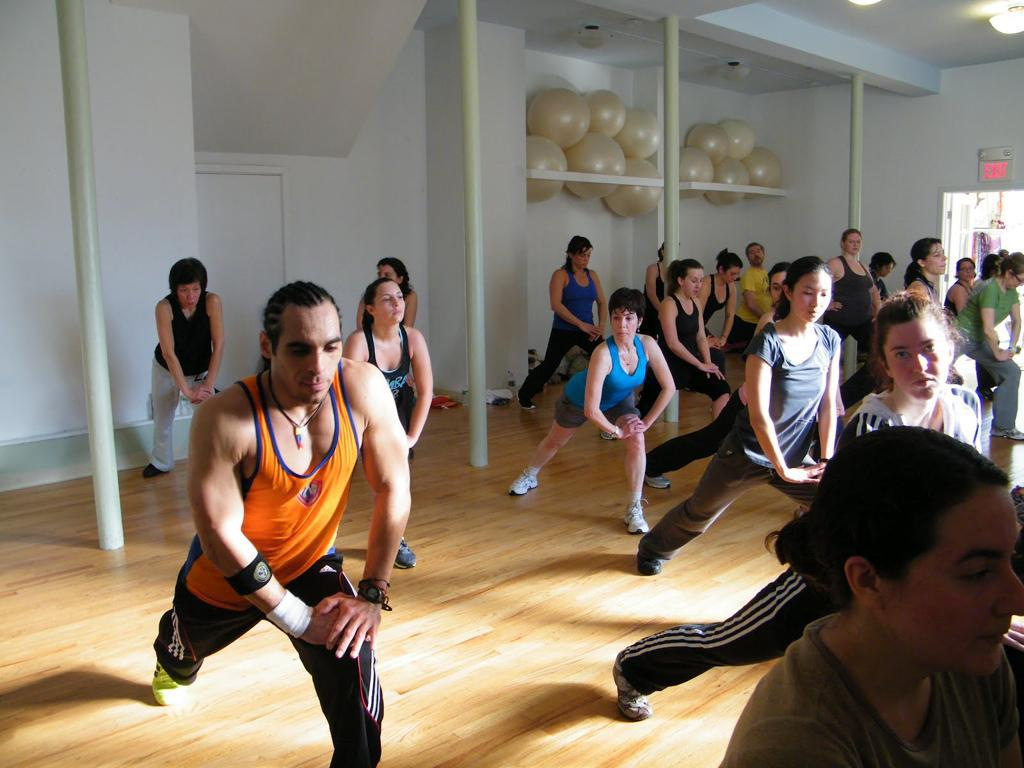face: (883, 487, 1024, 678), (274, 304, 343, 403), (885, 314, 949, 401), (793, 274, 832, 323), (376, 282, 406, 322), (771, 273, 795, 307), (612, 311, 638, 341), (926, 244, 948, 274), (178, 282, 201, 308), (685, 269, 704, 298), (380, 266, 399, 290), (845, 234, 862, 255), (576, 250, 592, 268), (960, 262, 975, 279), (749, 248, 764, 265), (1008, 274, 1024, 288), (727, 269, 741, 285), (883, 264, 894, 278)
